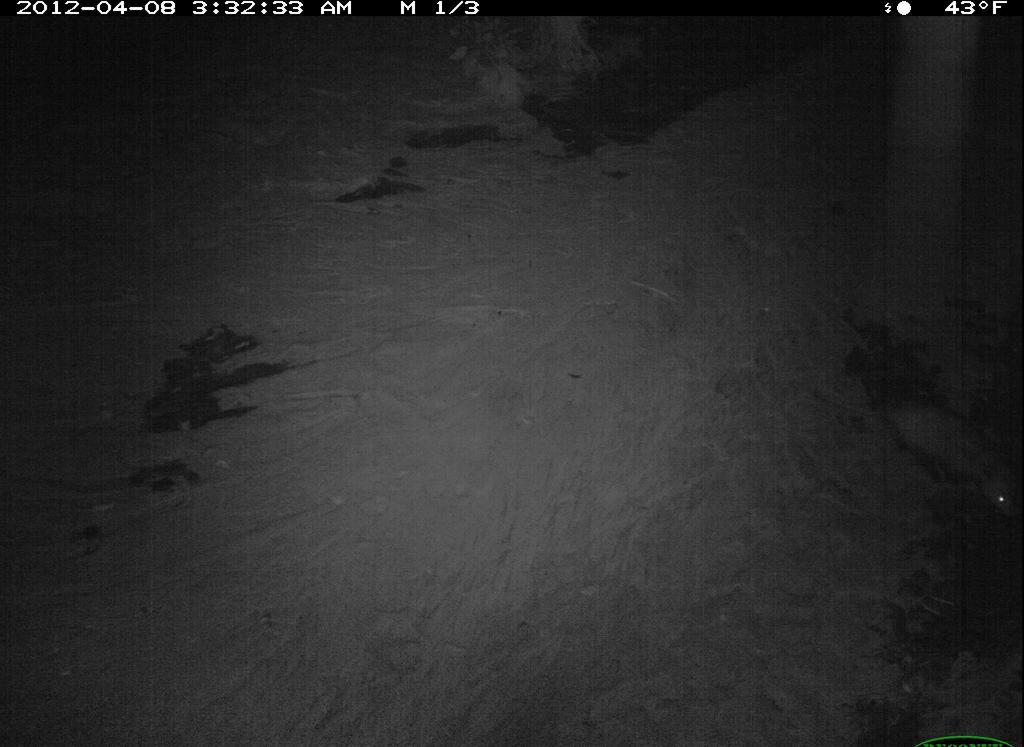opossum: (853, 372, 1023, 548)
